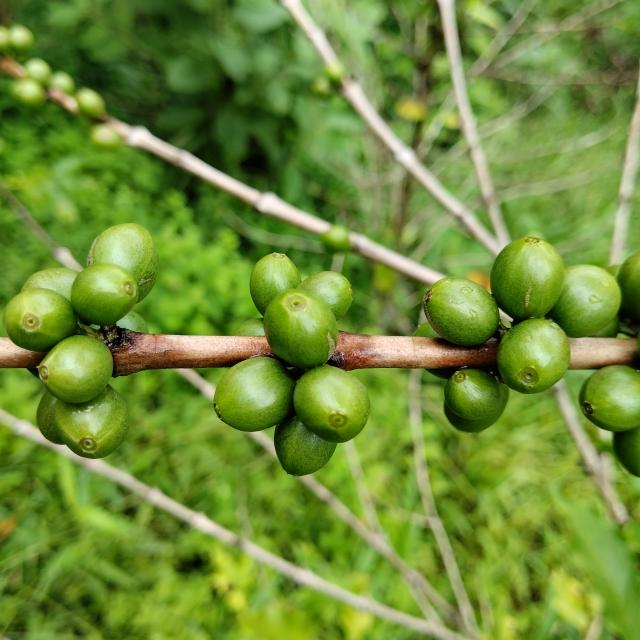green: (213, 357, 296, 432), (491, 237, 565, 321), (264, 289, 339, 369), (294, 366, 371, 443), (86, 223, 159, 302), (53, 385, 129, 459), (498, 319, 571, 394), (548, 265, 622, 338), (424, 277, 501, 346), (37, 335, 112, 404), (2, 288, 77, 352), (70, 263, 138, 326), (580, 365, 640, 432), (274, 416, 337, 477), (249, 252, 301, 316), (445, 369, 503, 420), (298, 271, 352, 320), (20, 268, 78, 301), (444, 402, 505, 433), (35, 391, 64, 445), (618, 251, 640, 321), (614, 426, 640, 478), (414, 322, 441, 338), (426, 368, 458, 380)
